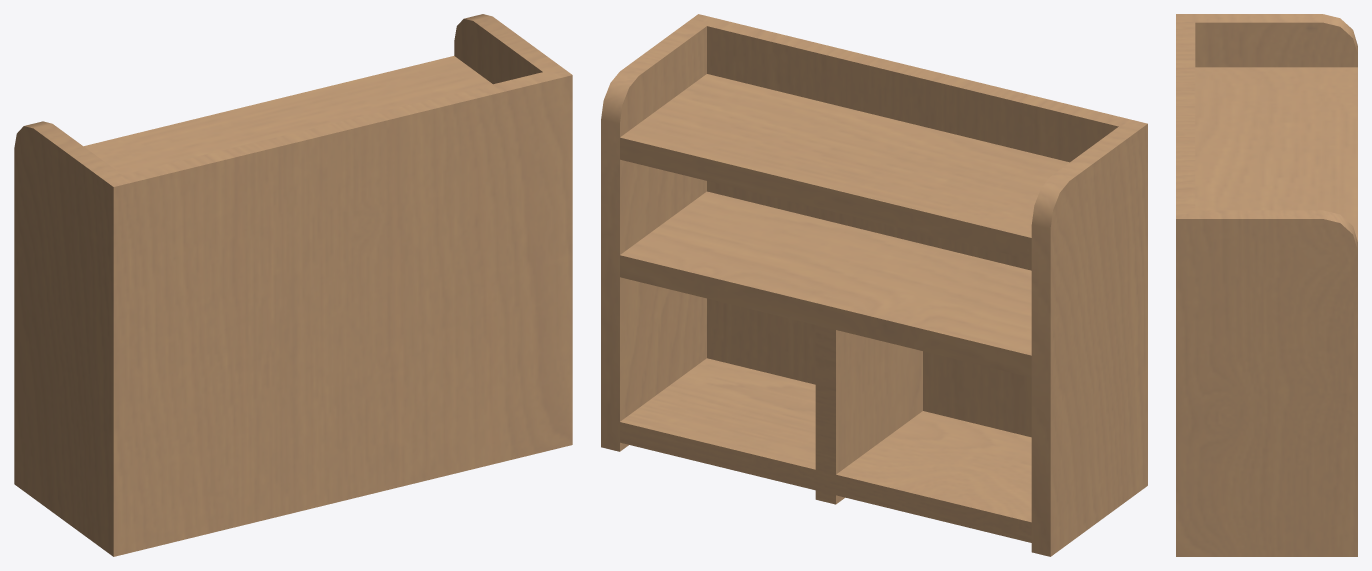
Rendered from kindergarten_asset_shelf_hyeyun.fbx.
The picture shows the model from 3 angles, left to right: view 1: azimuth 30°, elevation 25°; view 2: azimuth 150°, elevation 25°; view 3: azimuth 270°, elevation 25°; orthographic projection. The views are drawn at different scales.
Visible parts, largest first — view 1: Cube.007, Cube.006; view 2: Cube.007, Cube.006, Cube.004; view 3: Cube.007, Cube.006.
Boxes of the visible parts, x1=… form: Cube.007: x1=14, y1=14, x2=572, y2=556; Cube.006: x1=84, y1=56, x2=492, y2=174; Cube.007: x1=601, y1=14, x2=1147, y2=556; Cube.006: x1=620, y1=74, x2=1069, y2=377; Cube.004: x1=620, y1=325, x2=1031, y2=542; Cube.007: x1=1176, y1=14, x2=1357, y2=556; Cube.006: x1=1195, y1=67, x2=1357, y2=241.
Size of the model in its own units: 152 by 117 by 57.
Materials: 1 (1 with a texture image).
